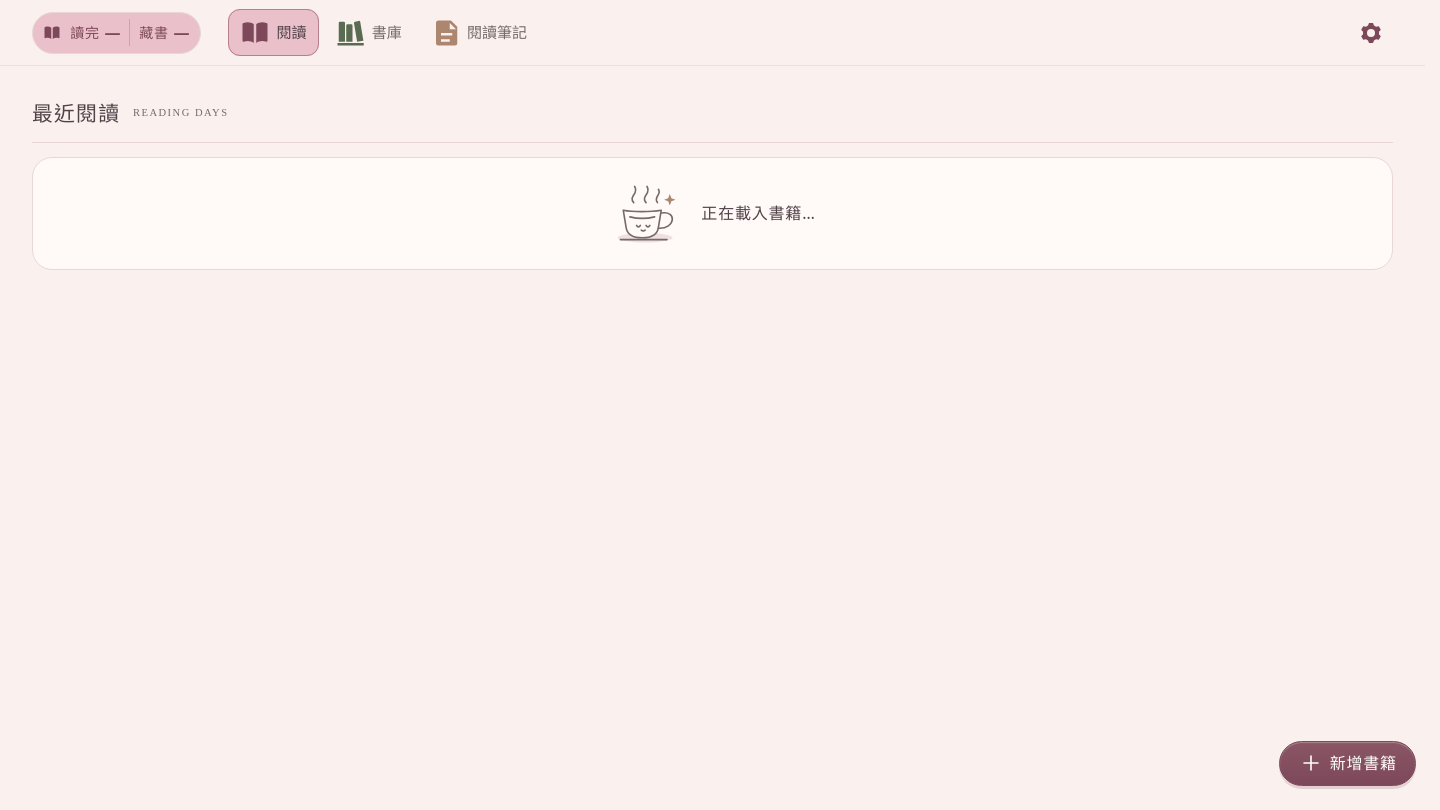
it: App cloud sync wiring › does not start entity sync in local mode
Step 1. Click the button named "管理" → coordinates (1371, 33), box [1349,11,1393,55]
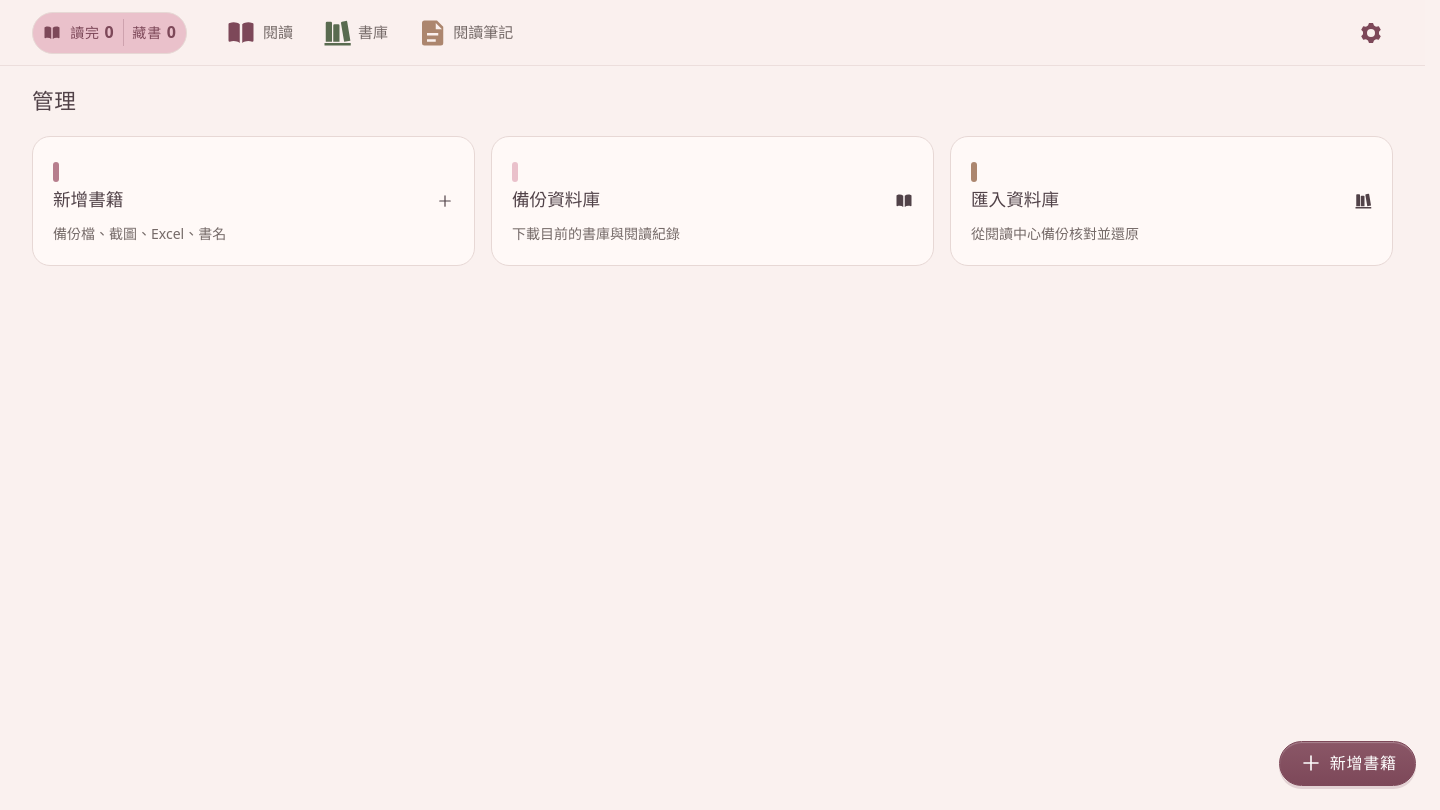
Expected: the button "備份資料庫 下載目前的書庫與閱讀紀錄" is shown, [491,136,934,266]
